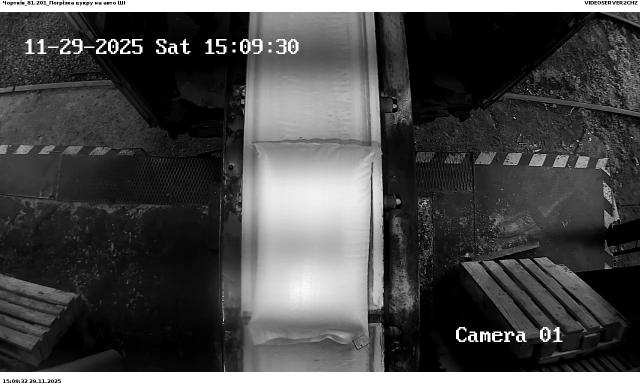bag: (252, 142, 376, 350)
